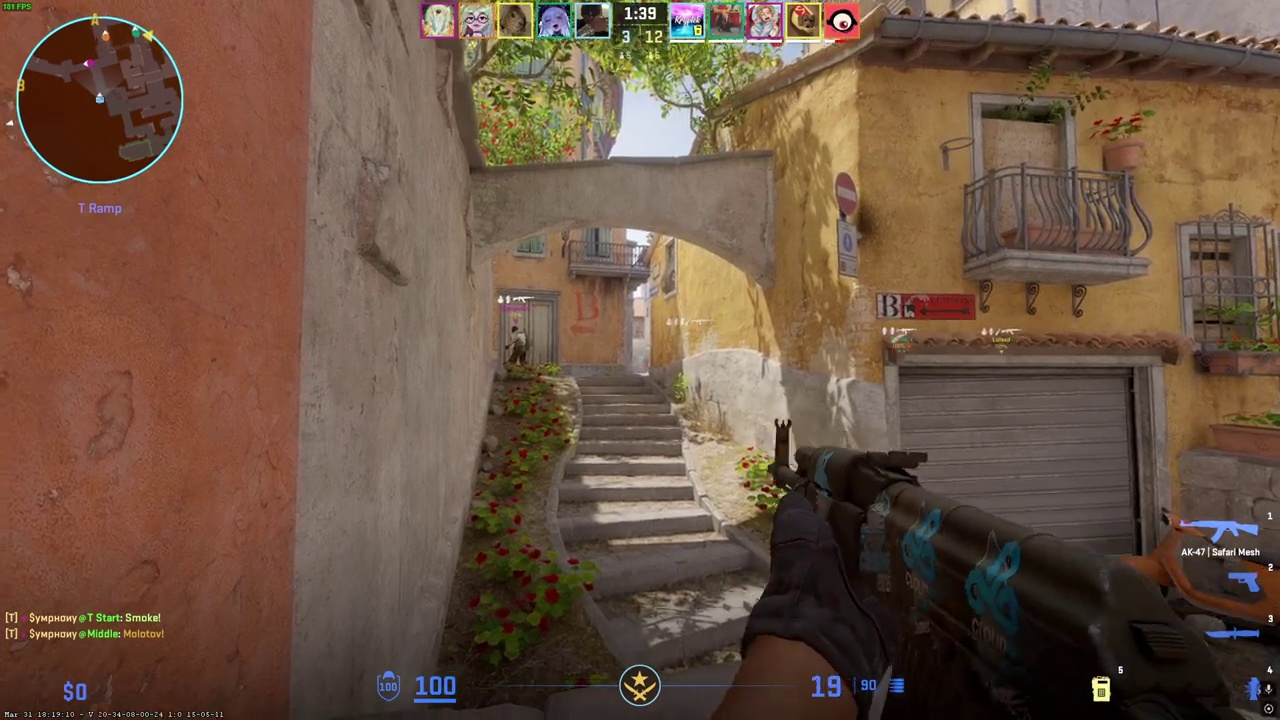Terrorist: (507, 326, 528, 365)
